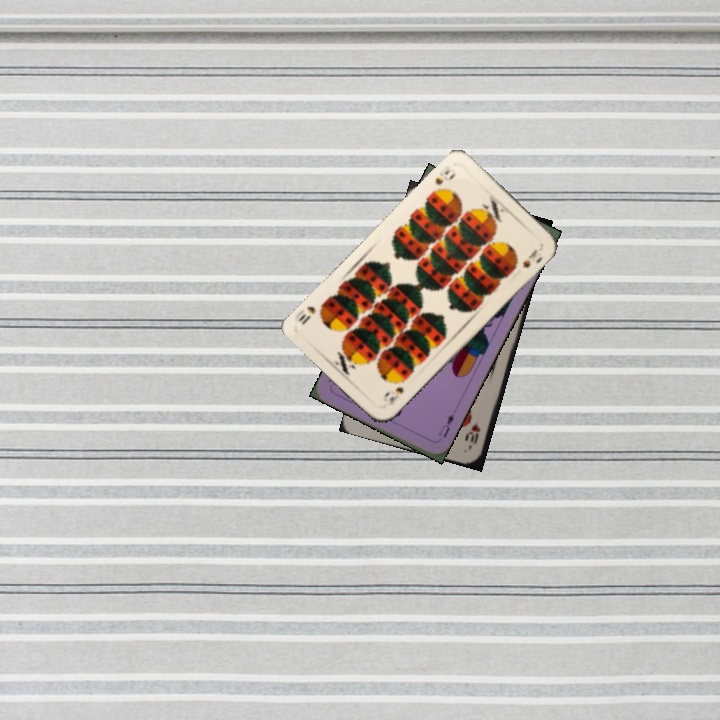EU: (435, 410, 456, 440)
H10: (466, 417, 483, 447)
S10: (431, 166, 458, 188), (384, 383, 406, 408)
